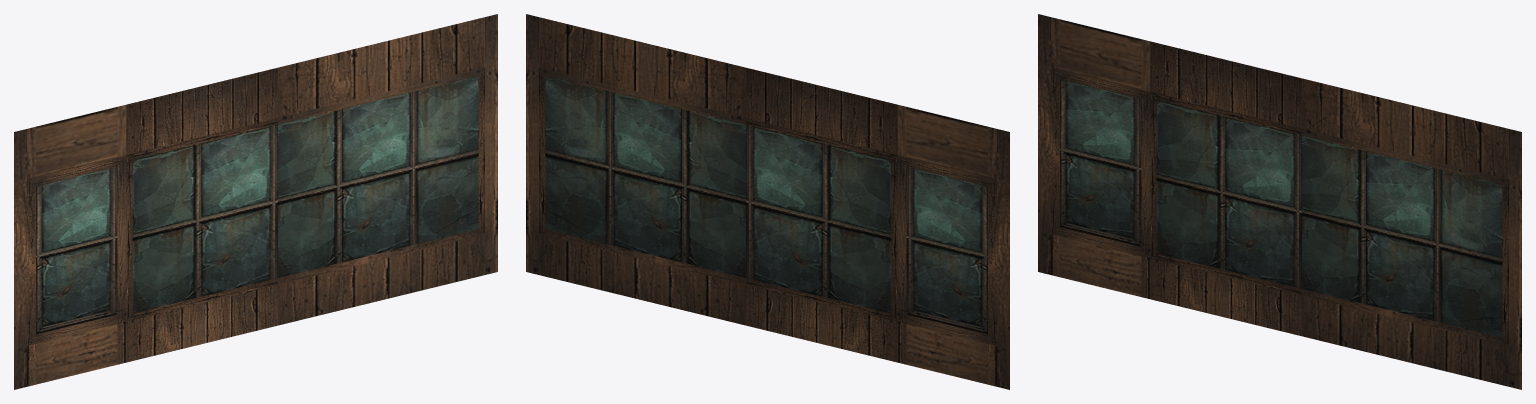
File: wall_wood_1.fbx
The picture shows the model from 3 angles, left to right: view 1: azimuth 30°, elevation 25°; view 2: azimuth 150°, elevation 25°; view 3: azimuth 330°, elevation 25°; orthographic projection.
Visible parts, largest first — view 1: wall_wood_1; view 2: wall_wood_1; view 3: wall_wood_1.
Boxes of the visible parts, x1,y1,x2,y2 form: wall_wood_1: (14,14,497,389); wall_wood_1: (526,14,1009,389); wall_wood_1: (1038,14,1521,389).
Bounding box in the file's own units: 6 × 3.06 × 2.29e-07.
